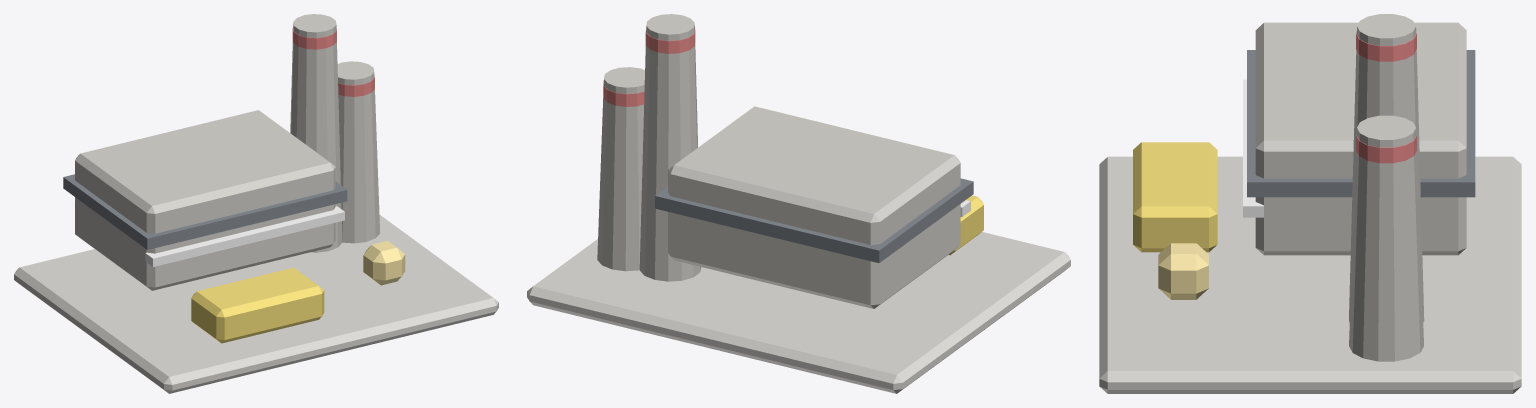
File: powerplant.glb
3 renders of one model, left to right at view 1: azimuth 30°, elevation 25°; view 2: azimuth 150°, elevation 25°; view 3: azimuth 270°, elevation 25°, orthographic. The views are drawn at different scales.
Parts seen in each view (by area): view 1: main, blades; view 2: main; view 3: main, blades.
Boxes of the visible parts, x1,y1,x2,y2 form: main: (14,14,498,393); blades: (363,241,405,285); main: (527,14,1070,393); main: (1099,14,1521,393); blades: (1158,243,1208,299).
Size of the model in its own units: 1.24 by 0.83 by 1.
